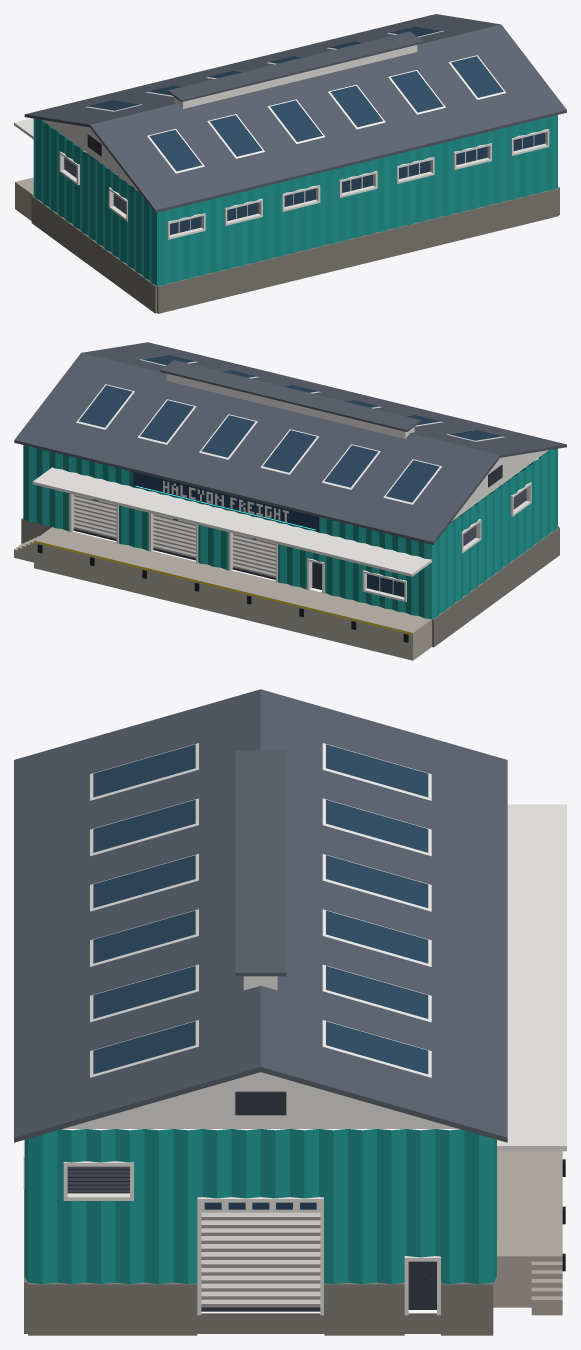
The model's file is warehouse_a.glb.
The picture shows the model from 3 angles, top to bottom: view 1: azimuth 30°, elevation 25°; view 2: azimuth 150°, elevation 25°; view 3: azimuth 270°, elevation 25°; orthographic projection. The views are drawn at different scales.
Visible parts, largest first — view 1: Building, Building_Glass; view 2: Building, Building_Glass, Building_Detail; view 3: Building, Building_Glass.
Part boxes in pixels (box(x1,y1,x2,y2)): Building: box(14, 14, 566, 313); Building_Glass: box(88, 26, 544, 234); Building: box(14, 342, 566, 660); Building_Glass: box(79, 355, 533, 596); Building_Detail: box(33, 472, 412, 642); Building: box(14, 689, 566, 1335); Building_Glass: box(93, 744, 428, 1209).
Size of the model in its own units: 31.6 by 11.24 by 19.55.
